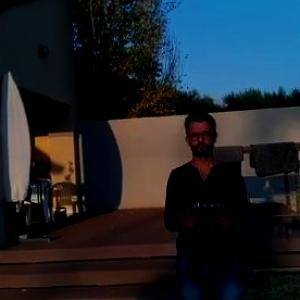follow: (161, 103, 257, 299)
